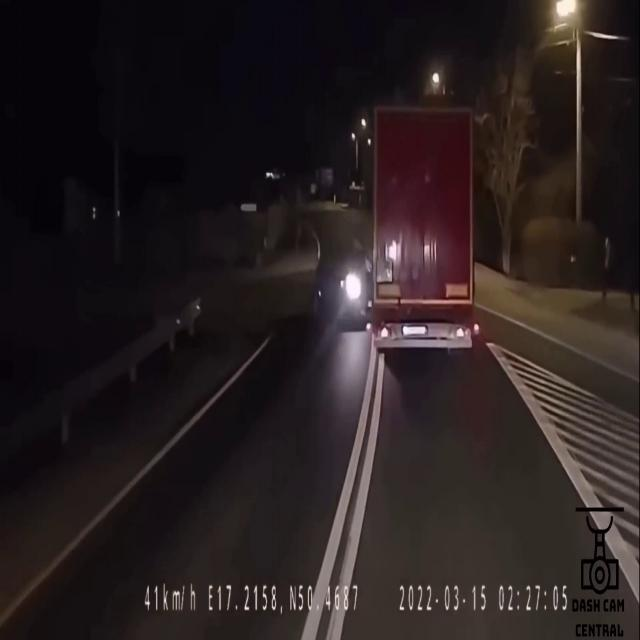accident: (312, 106, 471, 351)
